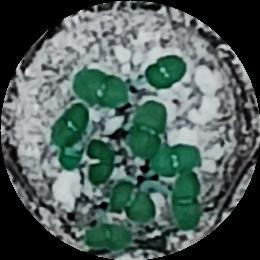Basil: (76, 69, 134, 113), (128, 104, 173, 153), (47, 104, 92, 148), (172, 175, 204, 231), (111, 184, 153, 225), (83, 137, 113, 189), (156, 142, 201, 176), (147, 54, 184, 88), (86, 223, 126, 251)
